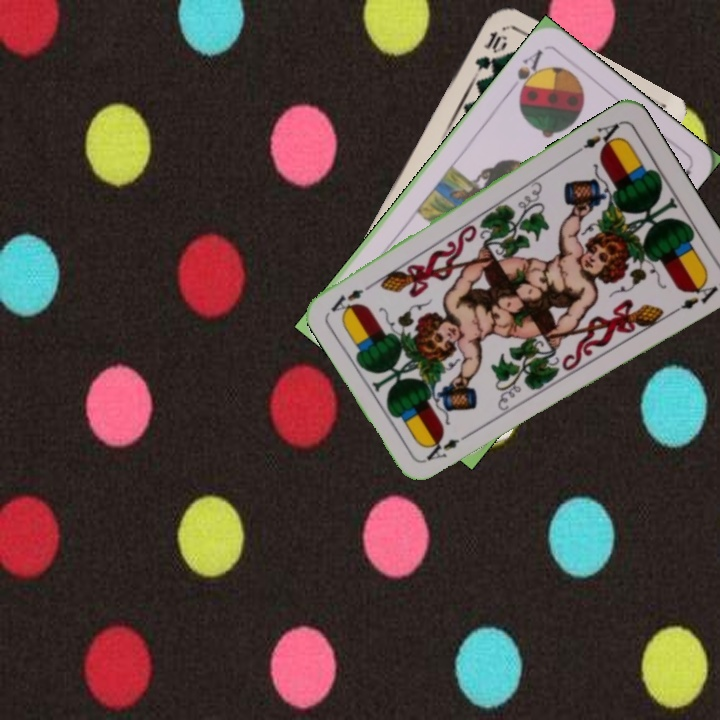EA: (571, 118, 624, 157), (422, 428, 475, 464)
G10: (470, 27, 509, 80)
SA: (505, 45, 546, 101)
